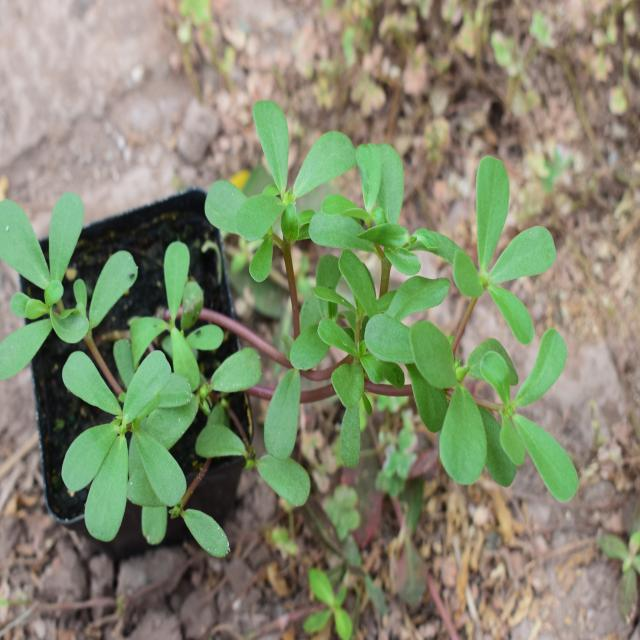purslane: (222, 108, 586, 508), (0, 220, 287, 529)
